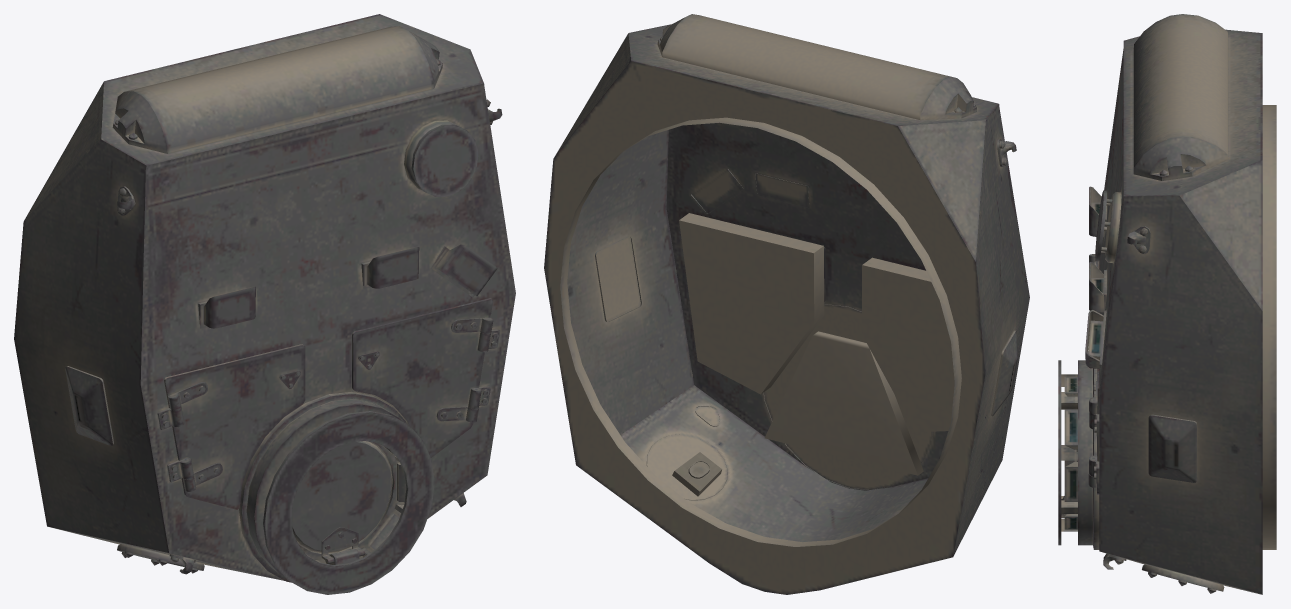
The model's file is Turret_02.glb.
The picture shows the model from 3 angles, left to right: view 1: azimuth 30°, elevation 25°; view 2: azimuth 150°, elevation 25°; view 3: azimuth 270°, elevation 25°; orthographic projection. The views are drawn at different scales.
Visible parts, largest first — view 1: set_0_group_0; view 2: set_0_group_0; view 3: set_0_group_0.
Part boxes in pixels (x1,y1,x2,y2): set_0_group_0: (14,14,515,594); set_0_group_0: (544,14,1029,594); set_0_group_0: (1058,14,1276,594).
Bounding box in the file's own units: 1.93 × 2.15 × 0.8447.
Materials: 1 (1 with a texture image).
